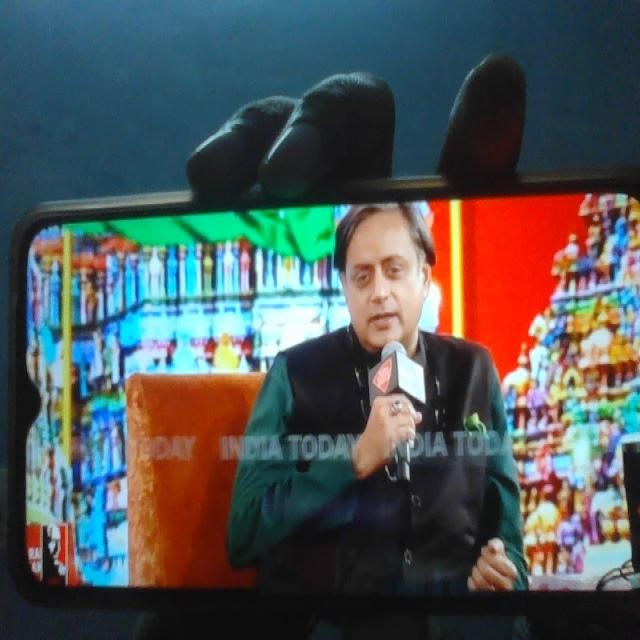fake: (328, 161, 443, 379)
